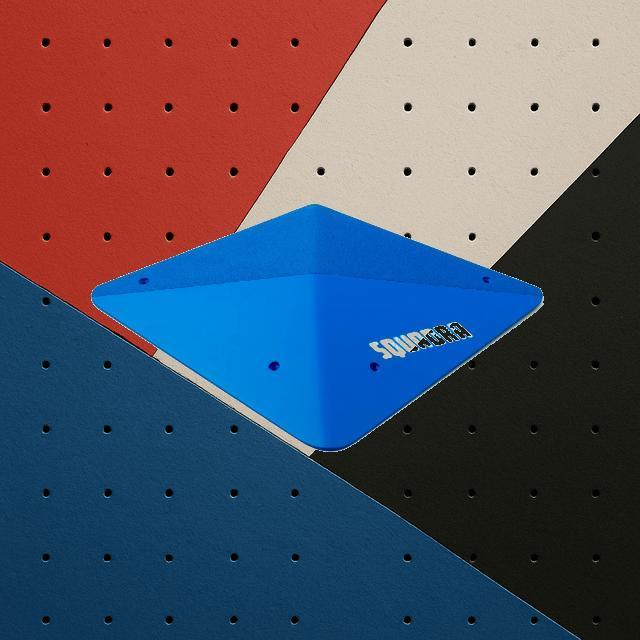Volume: (91, 202, 543, 452)
